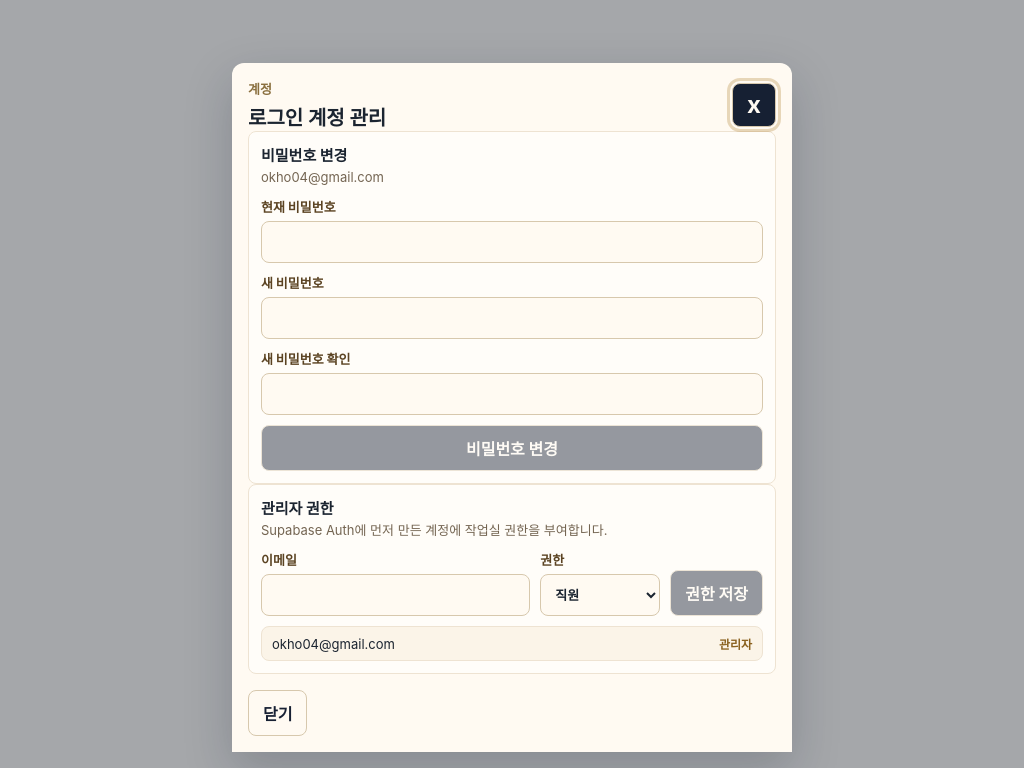
it: AccountModal › changes password after validating confirmation fields
Step 1. Type "old-secret" into the password field labelled "현재 비밀번호" → (512, 242), box [261,221,763,263]
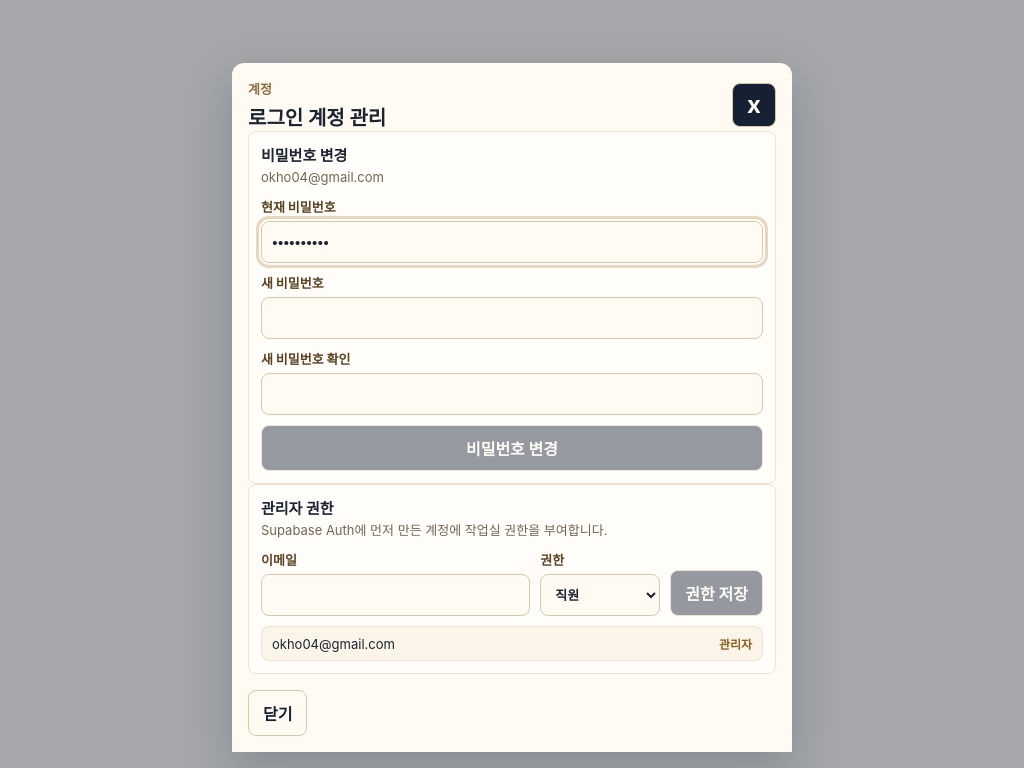
Step 2. Type "new-secret" into the password field labelled "새 비밀번호" → (512, 318), box [261,297,763,339]
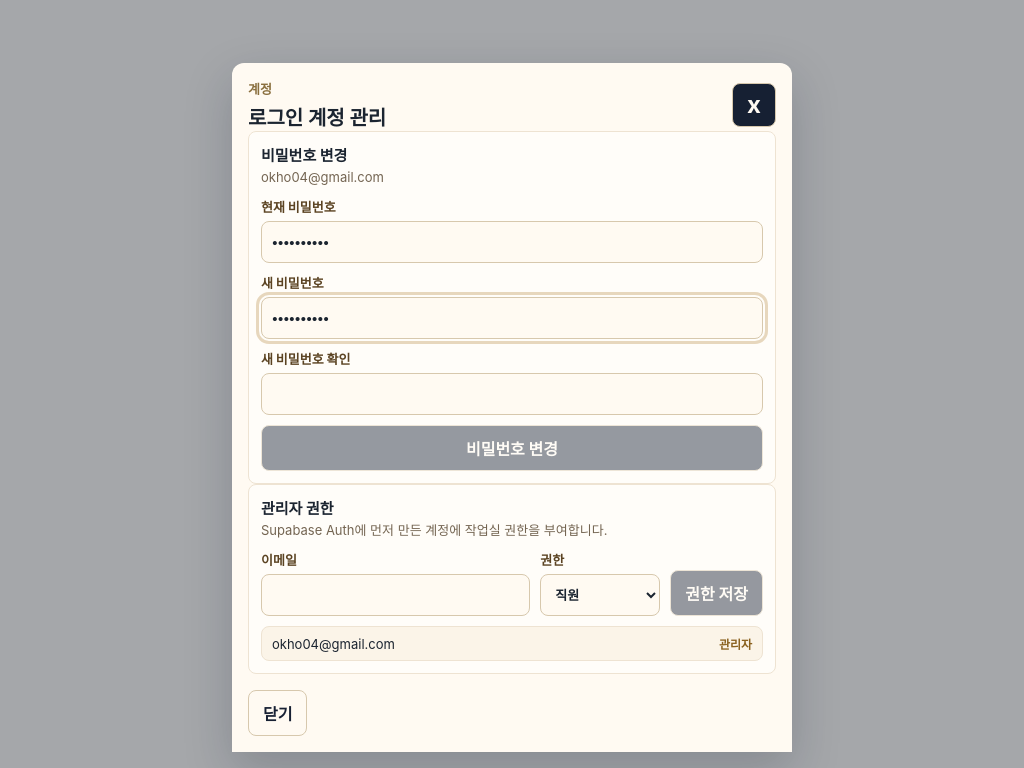
Step 3. Type "new-secret" into the password field labelled "새 비밀번호 확인" → (512, 394), box [261,373,763,415]
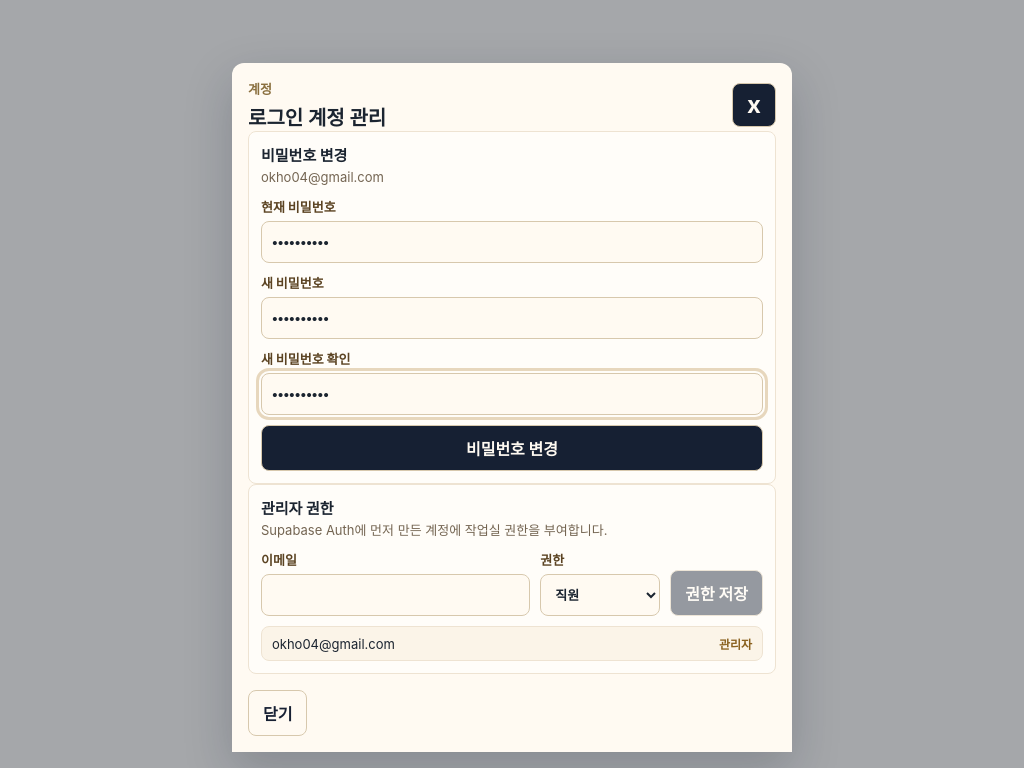
Step 4. Click the button "비밀번호 변경" → click(512, 448), box [261,425,763,471]
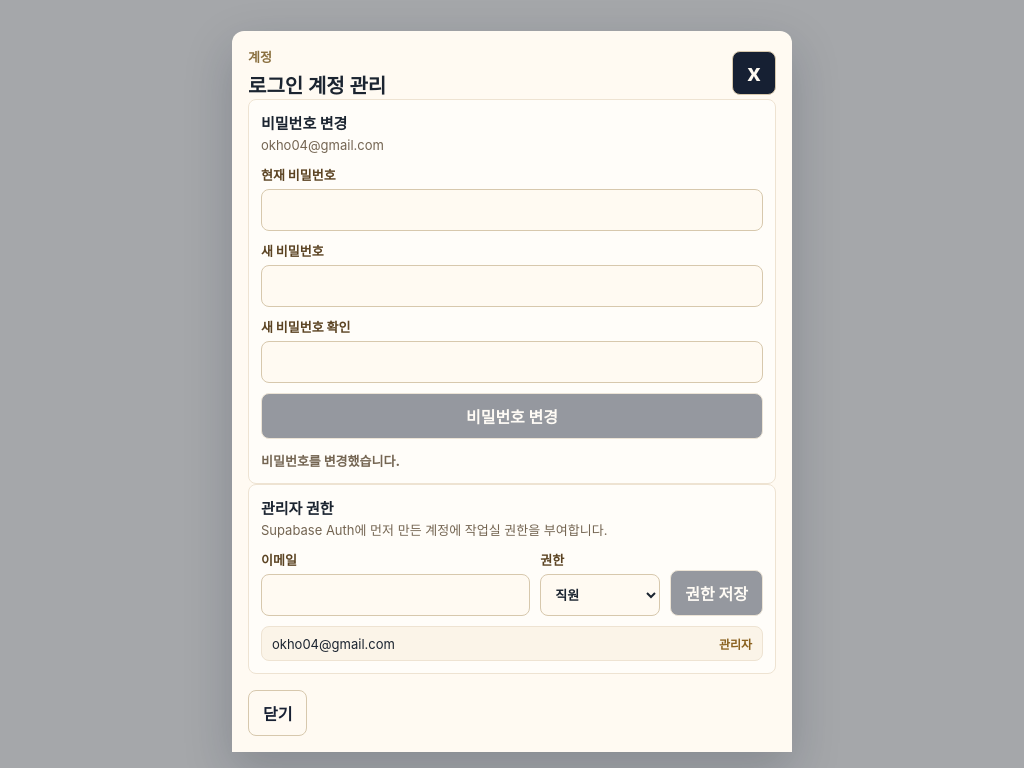
expect the text "비밀번호를 변경했습니다." is shown: met, box [261,453,400,469]
